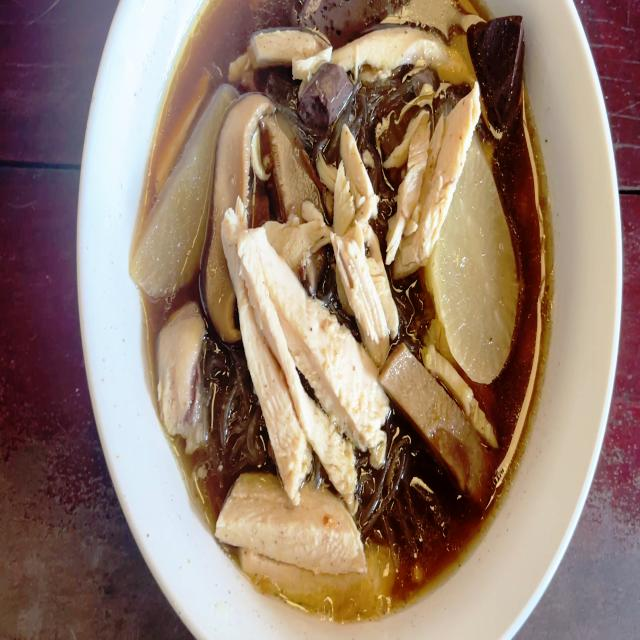boiled_chicken_blood_jelly: (465, 12, 526, 135), (301, 72, 354, 120), (308, 0, 380, 32)
chicken_shredded: (225, 205, 392, 614), (239, 20, 478, 78), (158, 319, 206, 458)
daikon_radish: (447, 171, 513, 393), (136, 66, 205, 275)
noodle: (138, 0, 541, 596)
